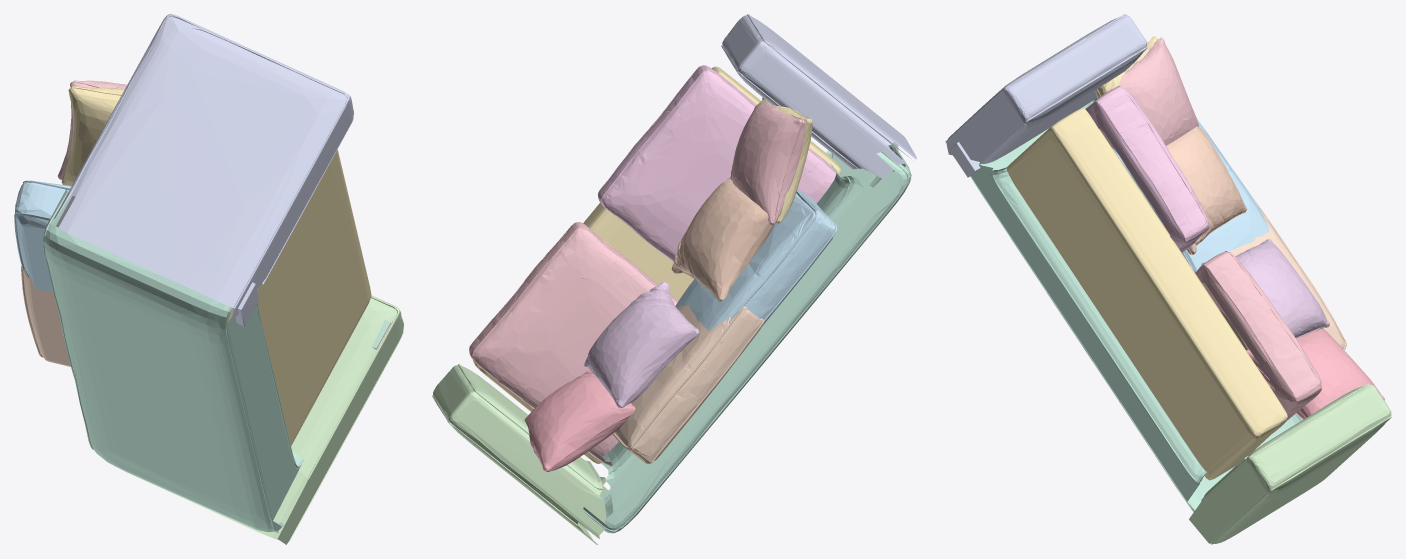
Rendered from view_assembly_-1_colored.glb.
3 renders of one model, left to right at view 1: azimuth 30°, elevation 25°; view 2: azimuth 150°, elevation 25°; view 3: azimuth 270°, elevation 25°, orthographic. The views are drawn at different scales.
Parts seen in each view (by area): view 1: world; view 2: world; view 3: world.
Part boxes in pixels (x1=…): world: x1=14, y1=14, x2=403, y2=544; world: x1=432, y1=14, x2=916, y2=544; world: x1=945, y1=14, x2=1391, y2=544.
Bounding box in the file's own units: 0.8432 × 1.02 × 0.8832.
